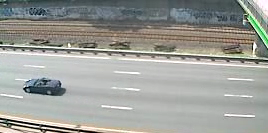car: (21, 76, 63, 97)
